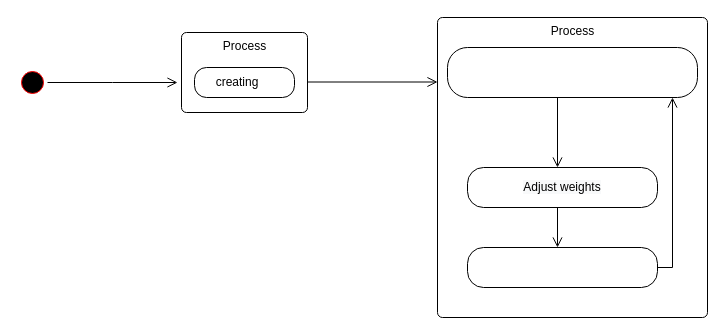
This 725x335 diagram has some shape labels left out. Each missing label, with the centre of its shape:
"calculate distance from input vector and BMU" goes at [572,72].
"writeMyFeaturesToAfile" goes at [562,267].
